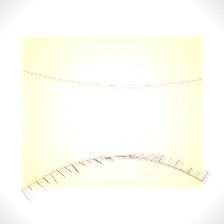foreign_body_visible: (93, 86, 125, 111)
